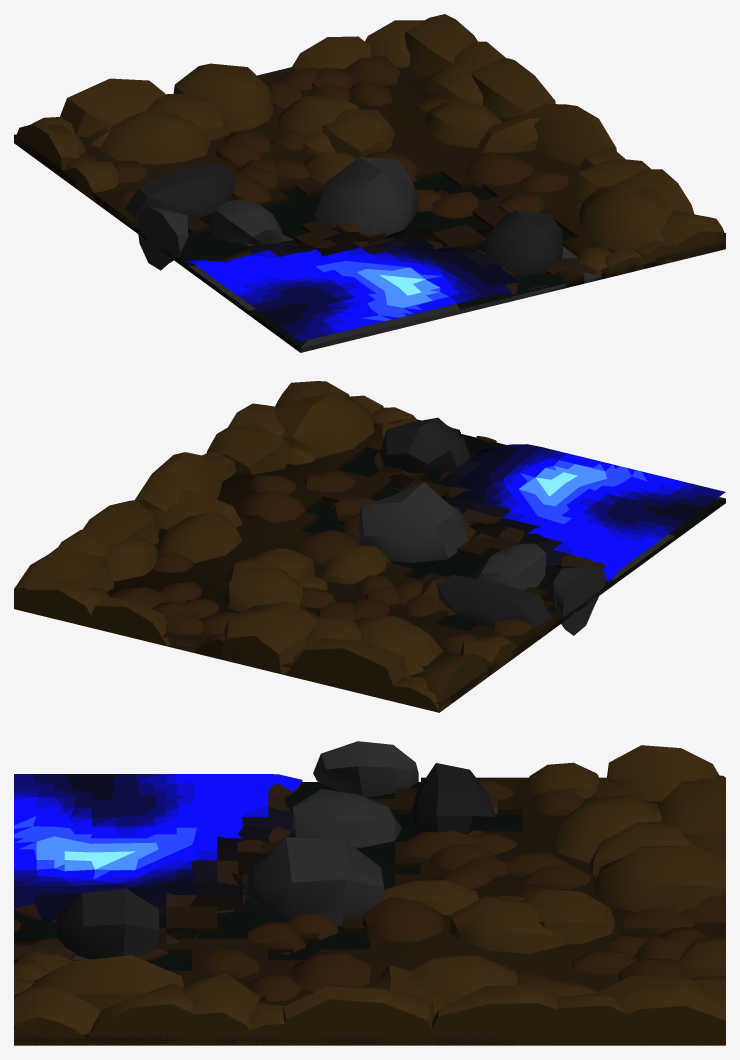
File: holes_rocks_tr_damaged.glb
The picture shows the model from 3 angles, top to bottom: view 1: azimuth 30°, elevation 25°; view 2: azimuth 150°, elevation 25°; view 3: azimuth 270°, elevation 25°; orthographic projection. The views are drawn at different scales.
Parts seen in each view (by area): view 1: holes_rocks_tr_damaged_pool, holes_rocks_tr_damaged_dirt_base, holes_rocks_tr_damaged_pit, holes_rocks_tr_damaged_stone4, holes_rocks_tr_damaged_dirt_2, holes_rocks_tr_damaged_dirt_57, holes_rocks_tr_damaged_dirt_36, holes_rocks_tr_damaged_stone9, holes_rocks_tr_damaged_stone0, holes_rocks_tr_damaged_dirt_21, holes_rocks_tr_damaged_dirt_54, holes_rocks_tr_damaged_dirt_55 (+37 smaller); view 2: holes_rocks_tr_damaged_pool, holes_rocks_tr_damaged_dirt_base, holes_rocks_tr_damaged_stone4, holes_rocks_tr_damaged_pit, holes_rocks_tr_damaged_dirt_21, holes_rocks_tr_damaged_dirt_36, holes_rocks_tr_damaged_dirt_2, holes_rocks_tr_damaged_stone0, holes_rocks_tr_damaged_stone9, holes_rocks_tr_damaged_dirt_59, holes_rocks_tr_damaged_dirt_54, holes_rocks_tr_damaged_dirt_25 (+33 smaller); view 3: holes_rocks_tr_damaged_pool, holes_rocks_tr_damaged_dirt_base, holes_rocks_tr_damaged_stone4, holes_rocks_tr_damaged_dirt_55, holes_rocks_tr_damaged_dirt_54, holes_rocks_tr_damaged_pit, holes_rocks_tr_damaged_dirt_59, holes_rocks_tr_damaged_dirt_36, holes_rocks_tr_damaged_stone9, holes_rocks_tr_damaged_dirt_52, holes_rocks_tr_damaged_dirt_10, holes_rocks_tr_damaged_stone3 (+43 smaller).
Part boxes in pixels (x1,y1,x2,y2): holes_rocks_tr_damaged_pool: [184, 228, 599, 341]; holes_rocks_tr_damaged_dirt_base: [14, 67, 725, 287]; holes_rocks_tr_damaged_pit: [136, 174, 655, 352]; holes_rocks_tr_damaged_stone4: [315, 157, 418, 236]; holes_rocks_tr_damaged_dirt_2: [579, 185, 672, 250]; holes_rocks_tr_damaged_dirt_57: [99, 111, 210, 164]; holes_rocks_tr_damaged_dirt_36: [173, 63, 272, 131]; holes_rocks_tr_damaged_stone9: [484, 210, 562, 276]; holes_rocks_tr_damaged_stone0: [124, 163, 234, 218]; holes_rocks_tr_damaged_dirt_21: [60, 78, 165, 137]; holes_rocks_tr_damaged_dirt_54: [524, 104, 616, 166]; holes_rocks_tr_damaged_dirt_55: [471, 58, 555, 117]; holes_rocks_tr_damaged_pool: [374, 426, 725, 583]; holes_rocks_tr_damaged_dirt_base: [106, 419, 562, 712]; holes_rocks_tr_damaged_stone4: [355, 482, 468, 562]; holes_rocks_tr_damaged_pit: [303, 434, 725, 631]; holes_rocks_tr_damaged_dirt_21: [285, 638, 409, 703]; holes_rocks_tr_damaged_dirt_36: [219, 601, 322, 674]; holes_rocks_tr_damaged_dirt_2: [275, 392, 374, 458]; holes_rocks_tr_damaged_stone0: [436, 575, 551, 627]; holes_rocks_tr_damaged_stone9: [380, 417, 469, 475]; holes_rocks_tr_damaged_dirt_59: [14, 545, 114, 618]; holes_rocks_tr_damaged_dirt_54: [135, 452, 222, 511]; holes_rocks_tr_damaged_dirt_25: [158, 511, 241, 562]; holes_rocks_tr_damaged_pool: [14, 774, 302, 961]; holes_rocks_tr_damaged_dirt_base: [14, 777, 725, 1045]; holes_rocks_tr_damaged_stone4: [245, 837, 384, 926]; holes_rocks_tr_damaged_dirt_55: [428, 984, 593, 1045]; holes_rocks_tr_damaged_dirt_54: [281, 985, 435, 1045]; holes_rocks_tr_damaged_pit: [14, 782, 522, 970]; holes_rocks_tr_damaged_dirt_59: [590, 975, 725, 1045]; holes_rocks_tr_damaged_dirt_36: [594, 845, 725, 912]; holes_rocks_tr_damaged_stone9: [53, 888, 159, 959]; holes_rocks_tr_damaged_dirt_52: [86, 983, 217, 1045]; holes_rocks_tr_damaged_dirt_10: [165, 973, 261, 1045]; holes_rocks_tr_damaged_stone3: [292, 789, 401, 848].
Bounding box in the file's own units: 23.98 × 4.77 × 27.98.
